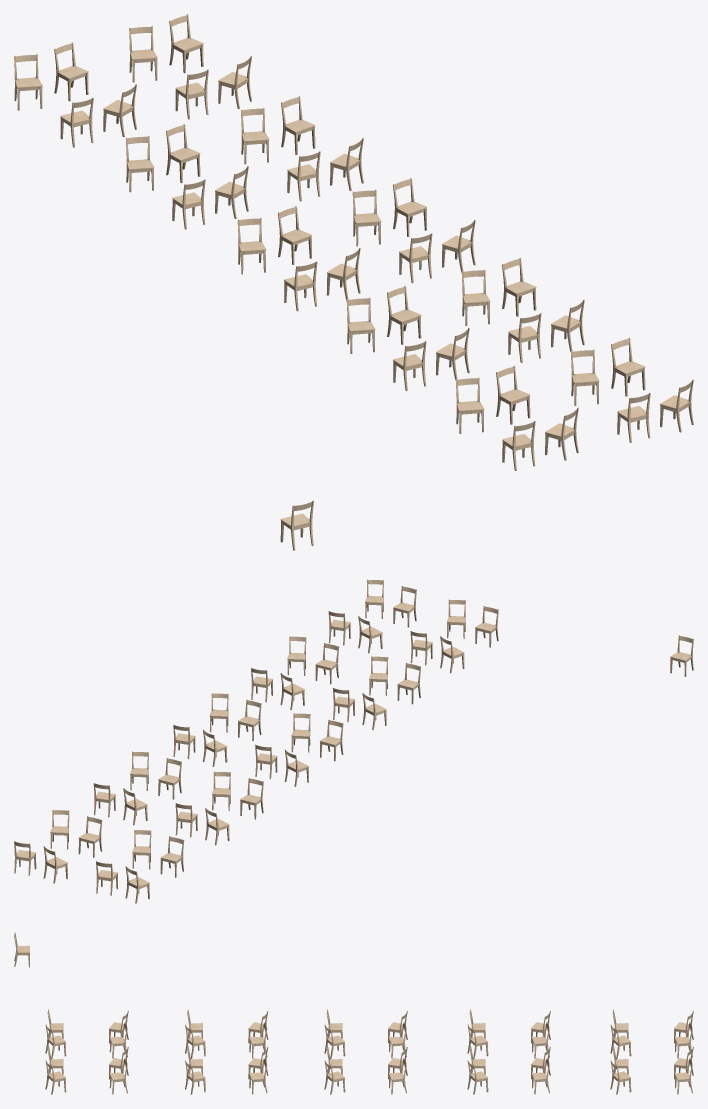
The model's file is reference_room_chair.FBX.
3 views of the same model, one above another, from view 1: azimuth 30°, elevation 25°; view 2: azimuth 150°, elevation 25°; view 3: azimuth 270°, elevation 25° (orthographic). The views are drawn at different scales.
Visible parts, largest first — view 1: chair036, chair014, chair010, chair018, chair034, chair028; view 2: no part large enough to name; view 3: chair015, chair011, chair027, chair001, chair035, chair023, chair007, chair031, chair039, chair019, chair014, chair022 (+8 smaller).
Part boxes in pixels (<box>): chair036: <box>54,42,88,101</box>; chair014: <box>502,257,536,316</box>; chair010: <box>387,286,421,344</box>; chair018: <box>496,365,530,424</box>; chair034: <box>169,14,203,73</box>; chair028: <box>166,124,200,183</box>; chair015: <box>185,1060,205,1094</box>; chair011: <box>185,1024,205,1058</box>; chair027: <box>467,1060,488,1094</box>; chair001: <box>324,1060,345,1094</box>; chair035: <box>610,1060,631,1094</box>; chair023: <box>45,1060,66,1094</box>; chair007: <box>324,1024,345,1058</box>; chair031: <box>467,1024,488,1058</box>; chair039: <box>610,1024,631,1058</box>; chair019: <box>45,1024,66,1058</box>; chair014: <box>249,1058,267,1094</box>; chair022: <box>109,1058,127,1094</box>.
Size of the model in its own units: 9008 by 893 by 19255.
